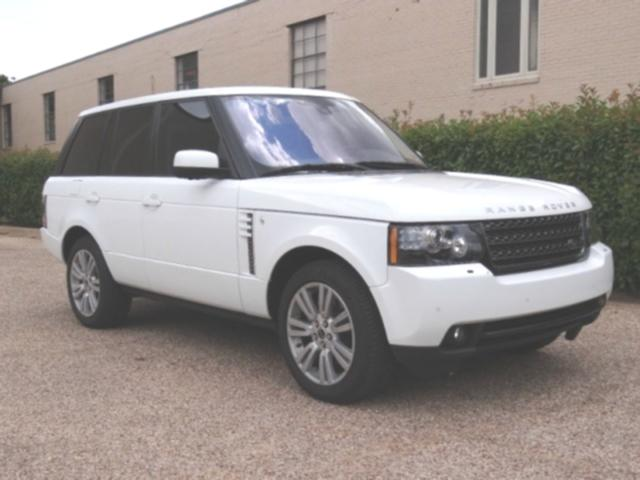range rover: (479, 195, 582, 225)
